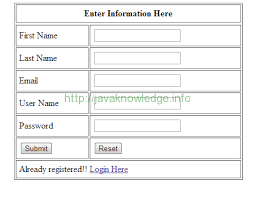button: (19, 141, 54, 156), (93, 141, 124, 155)
textbox: (92, 118, 184, 133)
